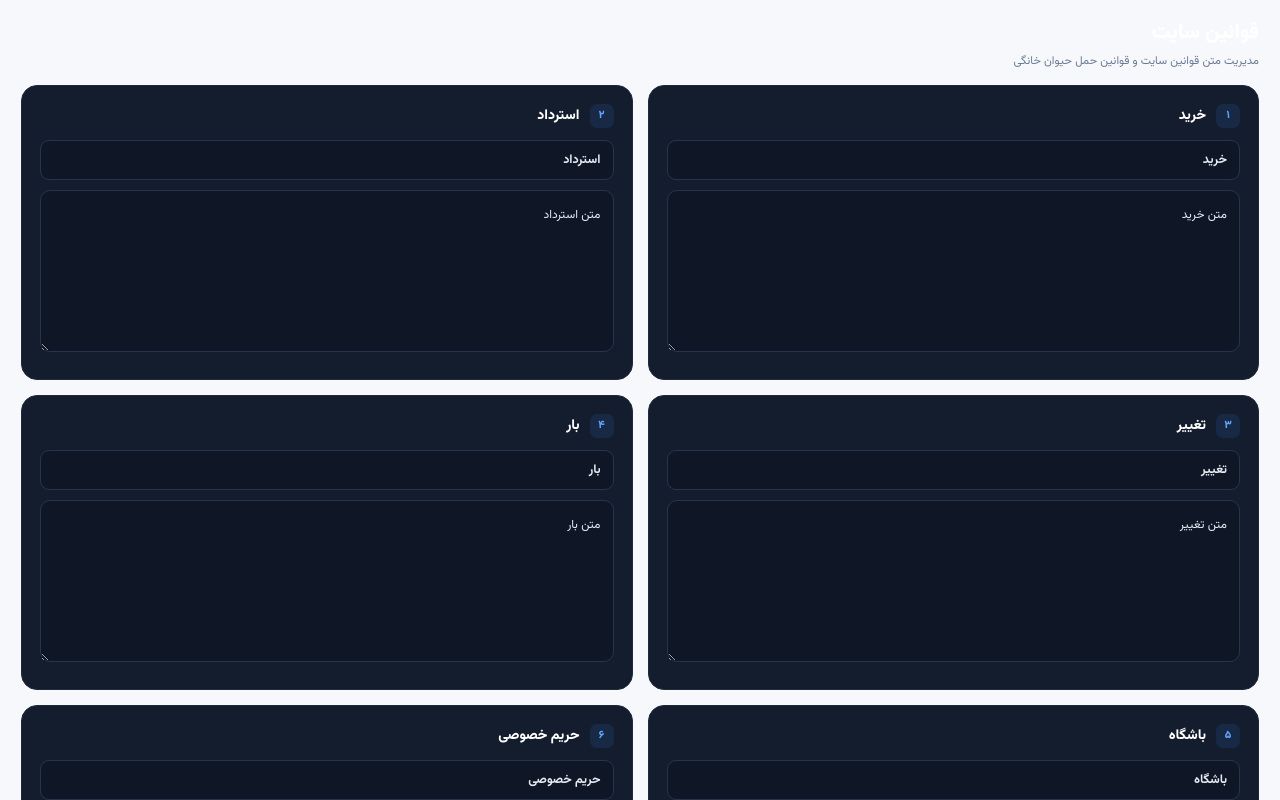
Scenario: SiteRulesPage › loads all seven real categories and saves edited copy
Replace the text in the field named "عنوان ۱" with "خرید و صدور بلیط" at coordinates (953, 160), box x1=666 y1=140 x2=1240 y2=180
(page scrolled)
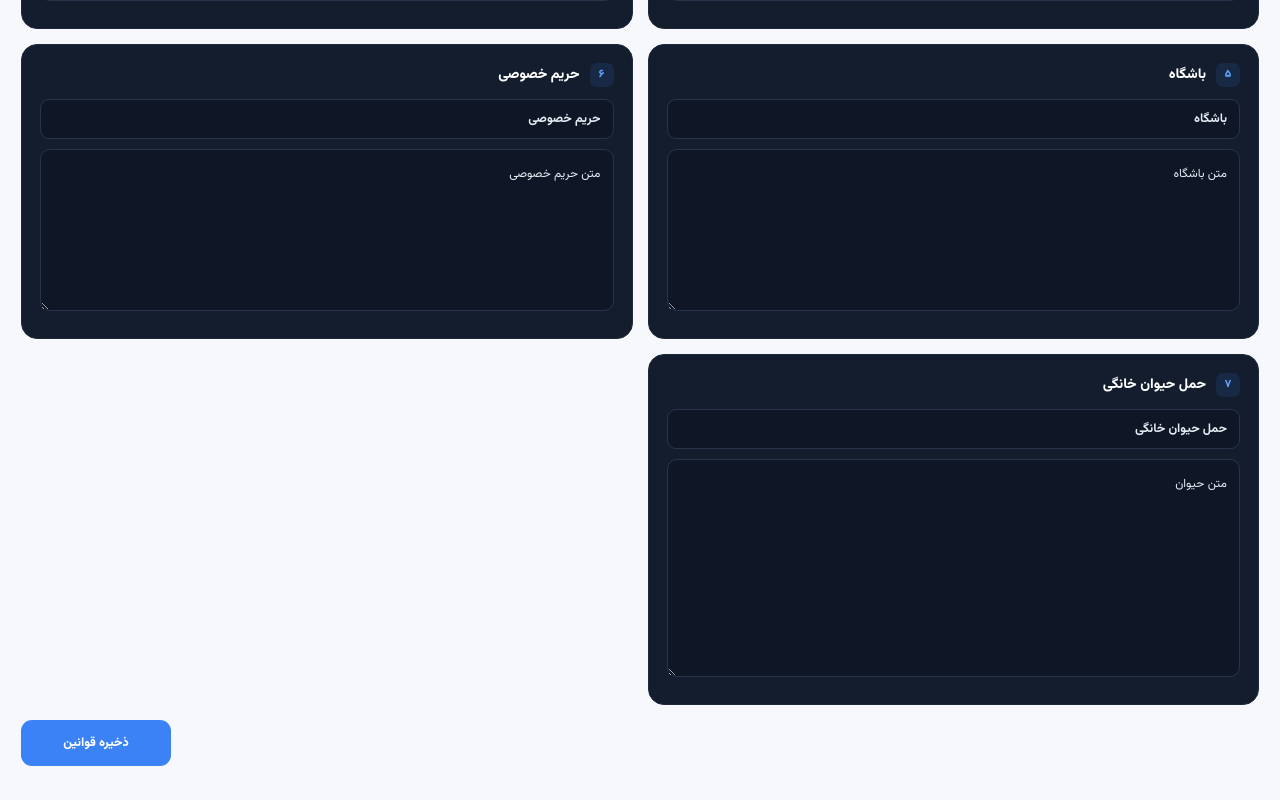
Click the button "ذخیره قوانین" at coordinates (96, 743), box x1=21 y1=720 x2=171 y2=766
(page scrolled)
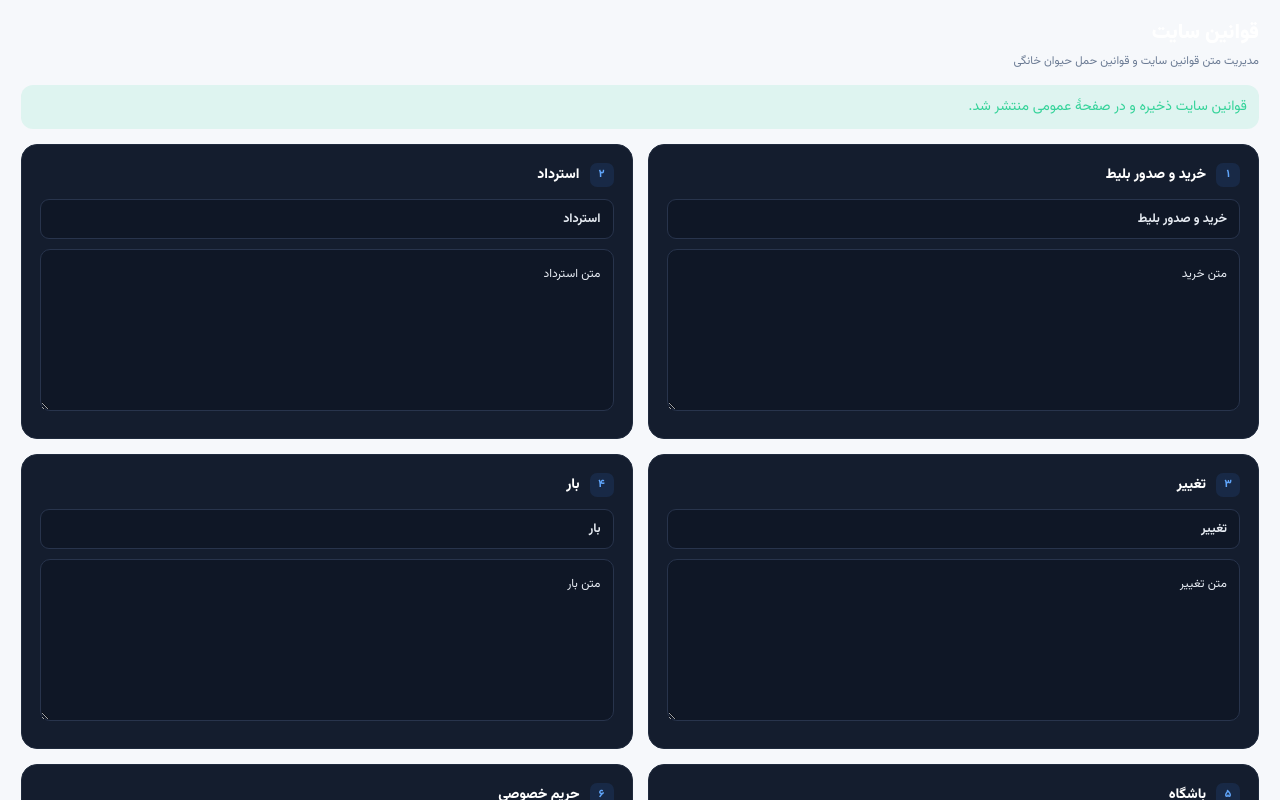
Expected: the message shows "منتشر شد", x1=969 y1=96 x2=1247 y2=118
